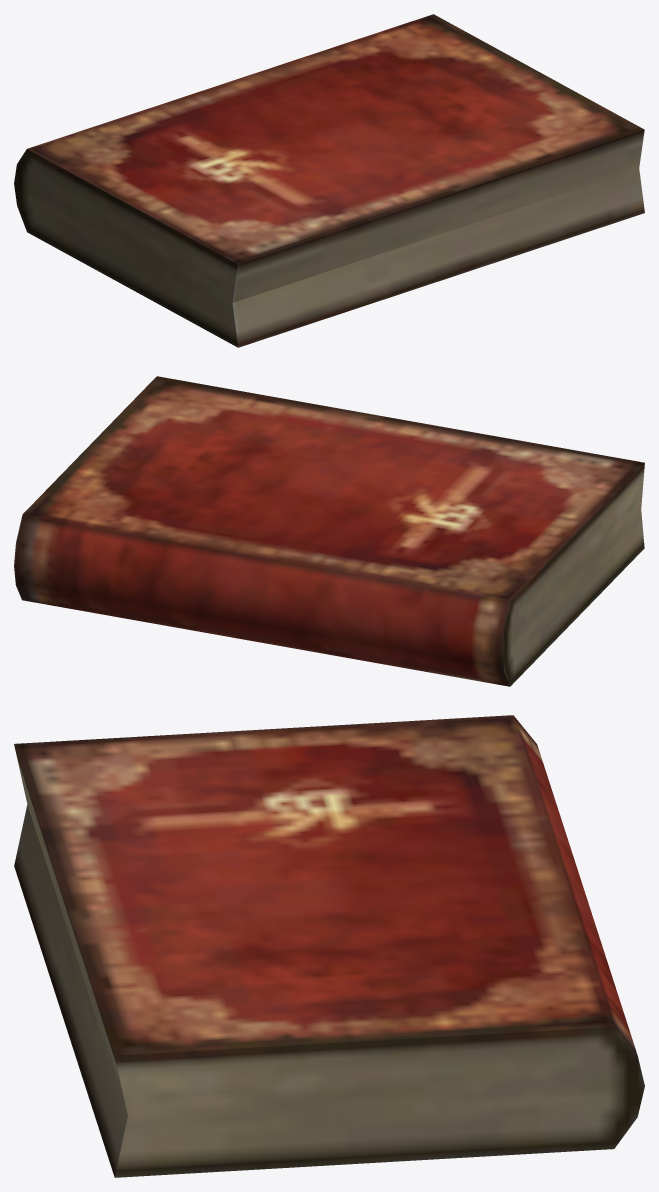
The picture shows the model from 3 angles, top to bottom: view 1: azimuth 30°, elevation 25°; view 2: azimuth 150°, elevation 25°; view 3: azimuth 270°, elevation 25°; orthographic projection. The views are drawn at different scales.
Visible parts, largest first — view 1: id400421_obj; view 2: id400421_obj; view 3: id400421_obj.
Boxes of the visible parts, x1,y1,x2,y2 form: id400421_obj: (14,14,644,347); id400421_obj: (14,376,644,686); id400421_obj: (14,715,644,1177).
Size of the model in its own units: 50.41 by 8.52 by 38.97.
Materials: 1 (1 with a texture image).
